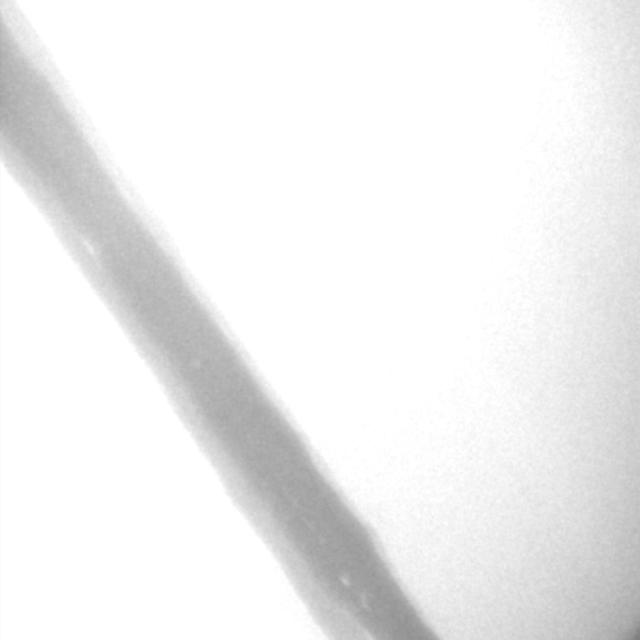air hole: (337, 574, 350, 587)
